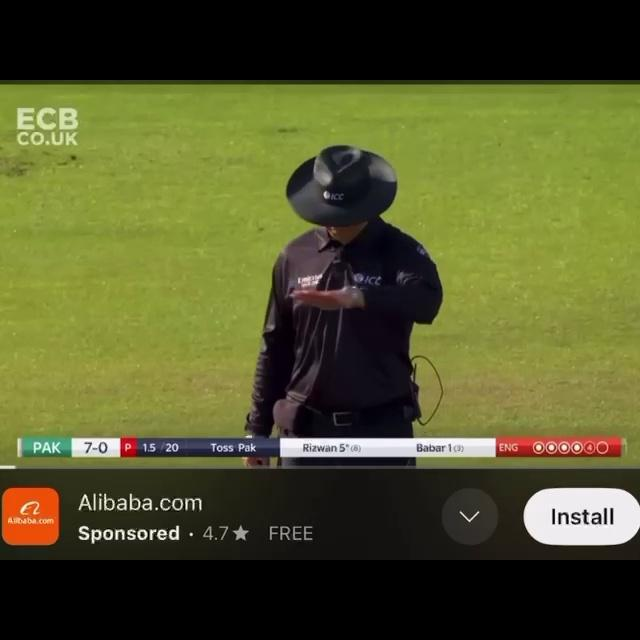umpire: (193, 131, 494, 429)
